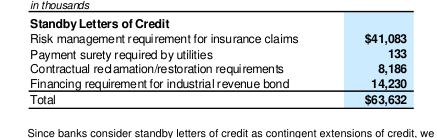table: (28, 28, 406, 107)
table column: (28, 28, 330, 107), (330, 28, 406, 107)
table row: (28, 90, 406, 107), (28, 28, 406, 44), (28, 59, 406, 75), (28, 44, 406, 59), (28, 75, 406, 90)
